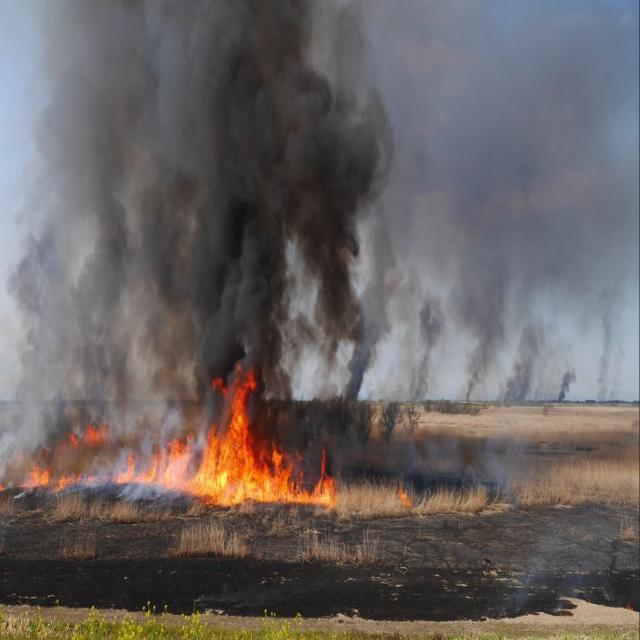Fire: (193, 362, 257, 508), (256, 444, 334, 504), (114, 433, 194, 487), (56, 472, 108, 493), (69, 424, 108, 448), (23, 462, 49, 487), (400, 484, 412, 512), (0, 482, 5, 490)
Smoke: (13, 0, 396, 346), (364, 0, 640, 299), (58, 347, 213, 422), (340, 246, 394, 399), (385, 264, 443, 399), (498, 317, 576, 405), (456, 285, 508, 404), (5, 348, 58, 464), (260, 344, 300, 444), (598, 312, 634, 404), (479, 440, 528, 506), (410, 439, 462, 478), (316, 344, 342, 400), (332, 436, 363, 478)
